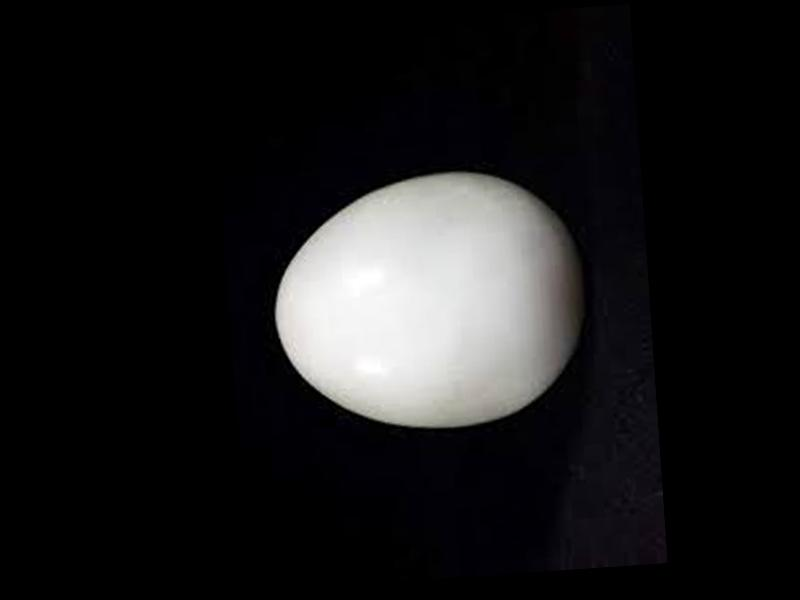Eggs: (268, 167, 596, 436)
